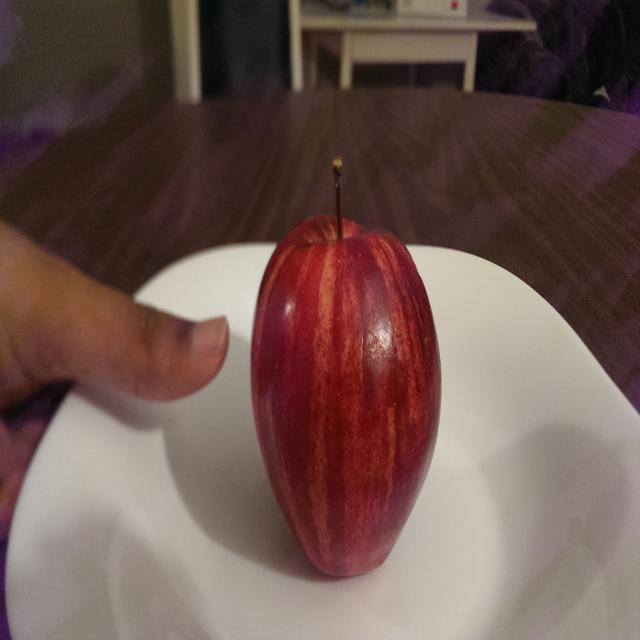Apple: (246, 149, 450, 584)
Finger: (136, 290, 237, 418)
